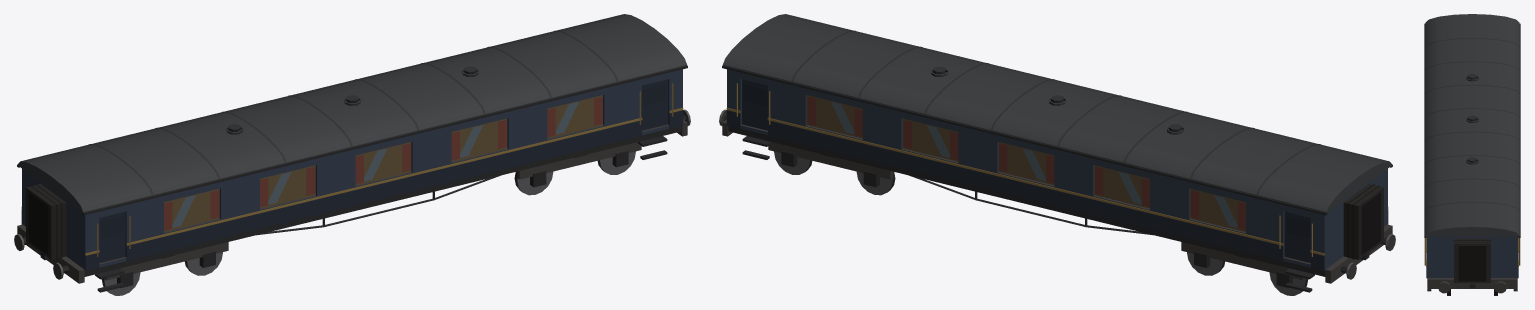
File: coach_chief.glb
The picture shows the model from 3 angles, left to right: view 1: azimuth 30°, elevation 25°; view 2: azimuth 150°, elevation 25°; view 3: azimuth 270°, elevation 25°; orthographic projection. The views are drawn at different scales.
Visible parts, largest first — view 1: coach_chief_LOD0; view 2: coach_chief_LOD0; view 3: coach_chief_LOD0.
Boxes of the visible parts, left/top/right/bottom form: coach_chief_LOD0: left=14, top=14, right=690, bottom=295; coach_chief_LOD0: left=719, top=14, right=1395, bottom=295; coach_chief_LOD0: left=1424, top=14, right=1520, bottom=295.
Size of what is drawn, in the model's own units: 16 by 3.02 by 2.94.
Materials: 1 (1 with a texture image).
